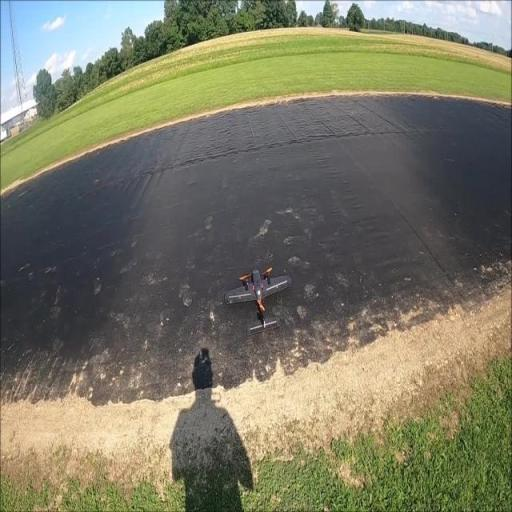uav: (220, 254, 295, 344)
